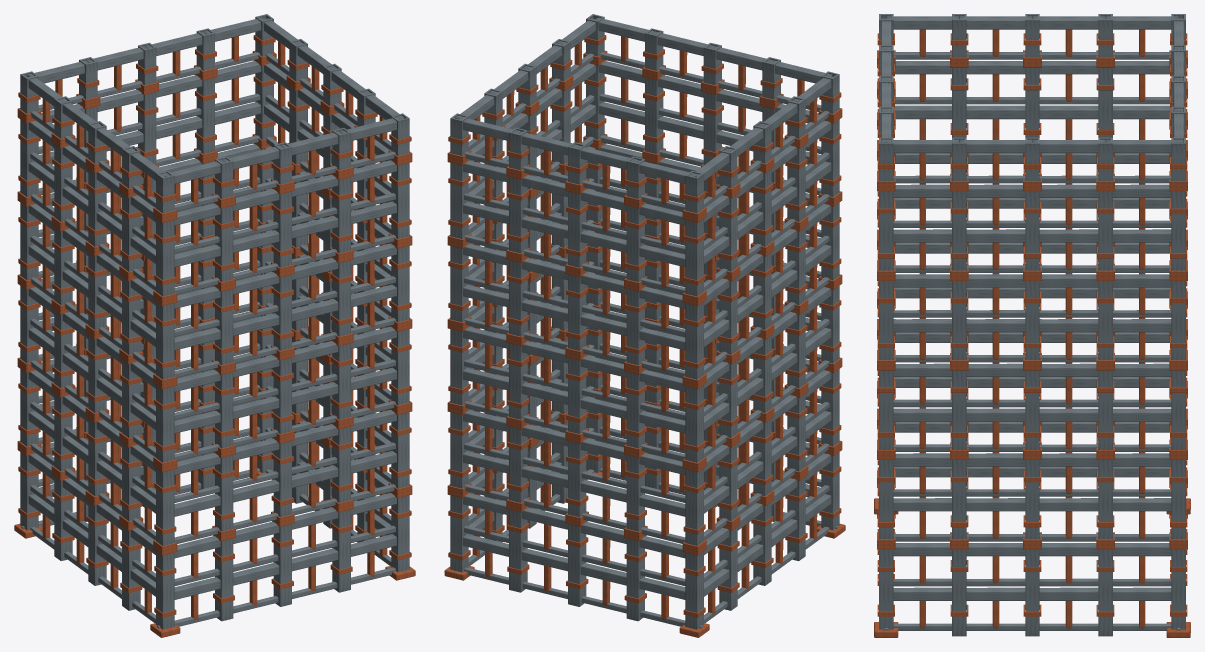
The picture shows the model from 3 angles, left to right: view 1: azimuth 30°, elevation 25°; view 2: azimuth 150°, elevation 25°; view 3: azimuth 270°, elevation 25°; orthographic projection. The views are drawn at different scales.
Visible parts, largest first — view 1: Tier 0 side 0 post 0, Tier 4 side 0 post 0, Tier 1 side 0 post 0, Tier 2 side 0 post 0, Tier 3 side 0 post 0, Tier 0 side 0 post 1, Tier 0 side 0 post 3, Tier 0 side 0 post 2, Tier 1 side 0 post 1, Tier 3 side 0 post 1, Tier 2 side 0 post 1, Tier 4 side 0 post 1 (+99 smaller); view 2: Tier 0 side 3 post 0, Tier 4 side 3 post 0, Tier 2 side 3 post 0, Tier 1 side 3 post 0, Tier 3 side 3 post 0, Tier 0 side 2 post 3, Tier 0 side 2 post 1, Tier 0 side 2 post 2, Tier 1 side 2 post 3, Tier 2 side 2 post 3, Tier 3 side 2 post 3, Tier 4 side 2 post 3 (+99 smaller); view 3: Tier 0 side 1 post 1, Tier 0 side 1 post 2, Tier 0 side 1 post 3, Tier 4 side 1 post 0, Tier 4 side 1 post 1, Tier 4 side 1 post 2, Tier 4 side 1 post 3, Tier 4 side 2 post 0, Tier 0 side 1 post 0, Tier 0 side 2 post 0, Tier 1 side 1 post 0, Tier 1 side 1 post 1 (+134 smaller).
Boxes of the visible parts, left/top/right/bottom form: Tier 0 side 0 post 0: left=156, top=551, right=174, bottom=629; Tier 4 side 0 post 0: left=156, top=219, right=174, bottom=296; Tier 1 side 0 post 0: left=156, top=468, right=174, bottom=545; Tier 2 side 0 post 0: left=156, top=385, right=174, bottom=462; Tier 3 side 0 post 0: left=156, top=302, right=174, bottom=379; Tier 0 side 0 post 1: left=215, top=538, right=233, bottom=621; Tier 0 side 0 post 3: left=332, top=509, right=350, bottom=592; Tier 0 side 0 post 2: left=273, top=524, right=291, bottom=606; Tier 1 side 0 post 1: left=215, top=455, right=233, bottom=531; Tier 3 side 0 post 1: left=215, top=289, right=233, bottom=365; Tier 2 side 0 post 1: left=215, top=372, right=233, bottom=448; Tier 4 side 0 post 1: left=215, top=206, right=233, bottom=281; Tier 0 side 3 post 0: left=685, top=551, right=703, bottom=629; Tier 4 side 3 post 0: left=685, top=219, right=703, bottom=296; Tier 2 side 3 post 0: left=685, top=385, right=703, bottom=462; Tier 1 side 3 post 0: left=685, top=468, right=703, bottom=545; Tier 3 side 3 post 0: left=685, top=302, right=703, bottom=379; Tier 0 side 2 post 3: left=626, top=538, right=644, bottom=621; Tier 0 side 2 post 1: left=509, top=509, right=527, bottom=592; Tier 0 side 2 post 2: left=568, top=524, right=586, bottom=606; Tier 1 side 2 post 3: left=626, top=455, right=644, bottom=531; Tier 2 side 2 post 3: left=626, top=372, right=644, bottom=448; Tier 3 side 2 post 3: left=626, top=289, right=644, bottom=365; Tier 4 side 2 post 3: left=626, top=206, right=644, bottom=281; Tier 0 side 1 post 1: left=952, top=549, right=966, bottom=636; Tier 0 side 1 post 2: left=1025, top=549, right=1039, bottom=636; Tier 0 side 1 post 3: left=1098, top=549, right=1112, bottom=636; Tier 4 side 1 post 0: left=879, top=191, right=893, bottom=270; Tier 4 side 1 post 1: left=952, top=191, right=966, bottom=270; Tier 4 side 1 post 2: left=1025, top=191, right=1039, bottom=270; Tier 4 side 1 post 3: left=1098, top=191, right=1112, bottom=270; Tier 4 side 2 post 0: left=1171, top=191, right=1185, bottom=270; Tier 0 side 1 post 0: left=879, top=549, right=893, bottom=629; Tier 0 side 2 post 0: left=1171, top=549, right=1185, bottom=629; Tier 1 side 1 post 0: left=879, top=460, right=893, bottom=539; Tier 1 side 1 post 1: left=952, top=460, right=966, bottom=539.
Bounding box in the file's own units: 1.95 × 3.35 × 1.95.
2 materials, 2 textured.
